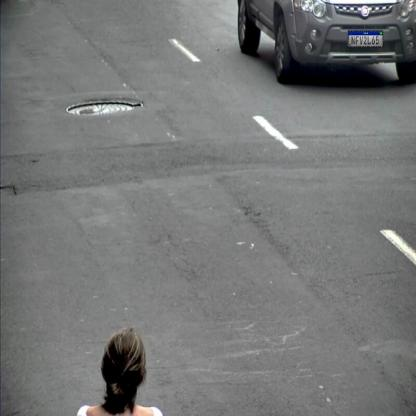PlacaM: (348, 31, 383, 47)
